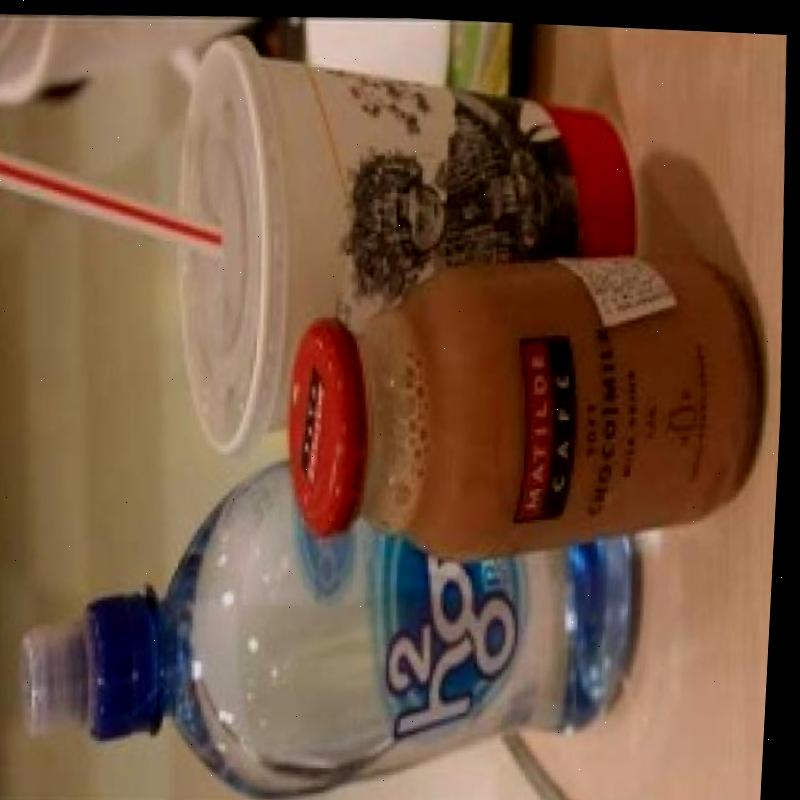botella: (15, 439, 672, 800)
